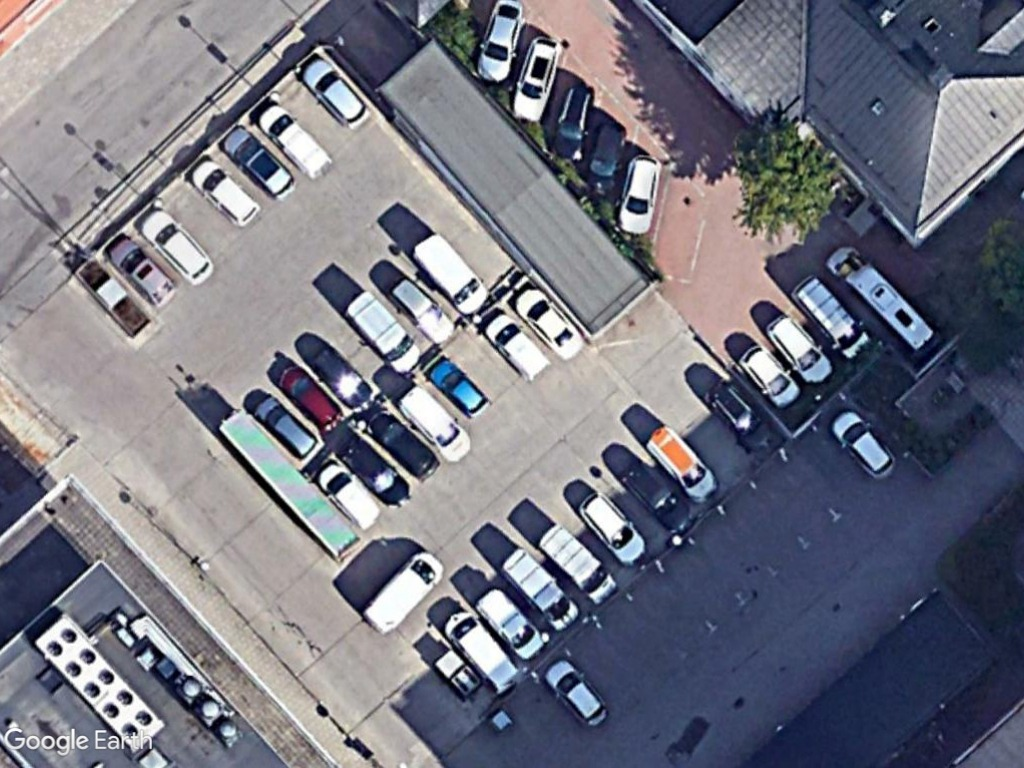car: (645, 422, 723, 506), (618, 462, 703, 537), (220, 124, 299, 202), (138, 208, 217, 286), (704, 378, 777, 459), (577, 489, 650, 568), (516, 285, 588, 365), (763, 312, 837, 389), (299, 55, 374, 130), (474, 588, 549, 662), (342, 431, 415, 507), (190, 156, 264, 229), (387, 272, 458, 348), (107, 236, 180, 309), (508, 34, 565, 127), (370, 410, 440, 483), (830, 408, 899, 482), (277, 361, 346, 433), (737, 340, 803, 414), (307, 344, 376, 414), (545, 655, 611, 728), (254, 393, 322, 460), (473, 0, 526, 85), (614, 153, 664, 237), (548, 85, 598, 166), (429, 356, 491, 420)
van: (823, 242, 940, 360), (499, 545, 587, 634), (358, 549, 444, 639), (344, 285, 425, 379), (535, 518, 620, 607), (411, 229, 494, 320), (790, 270, 872, 359), (442, 605, 521, 695), (396, 380, 474, 463), (260, 103, 335, 180), (483, 310, 552, 385), (313, 456, 382, 529)
